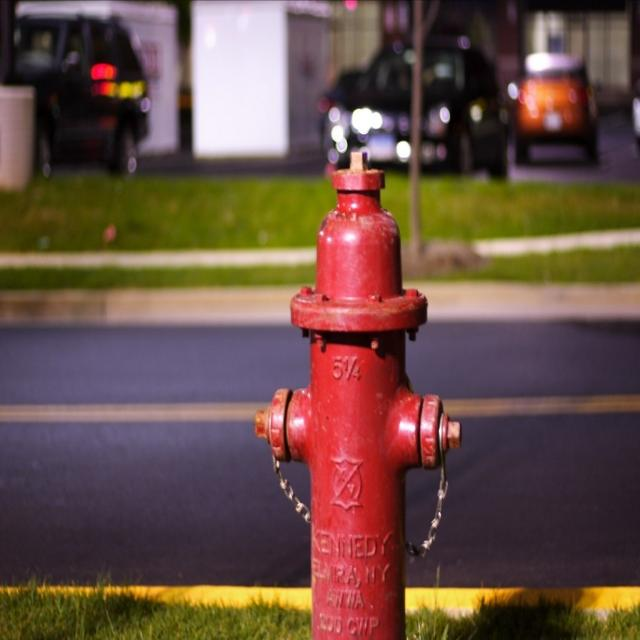fire_hydrant: (259, 146, 457, 625)
